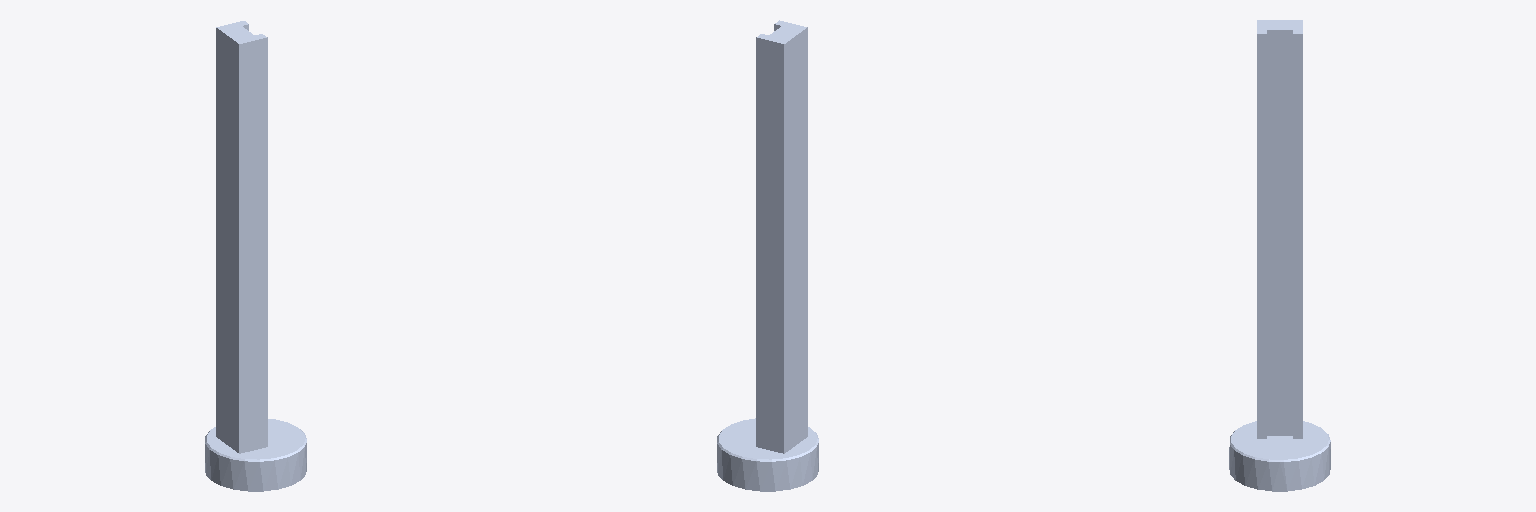
URDF robot description (Arm_link1_simple.SLDPRT):
<robot
  name="Arm_link1_simple.SLDPRT">
  <link
    name="Arm_link1_simple.SLDPRT">
    <inertial>
      <origin
        xyz="-0.035299 -0.51908 3.0901583307106E-17"
        rpy="0 0 0" />
      <mass
        value="56.212" />
      <inertia
        ixx="11.663244910873"
        ixy="2.13002493035383E-17"
        ixz="-0.463117260190688"
        iyy="7.31243655226427E-16"
        iyz="-0.325943705018541"
        izz="2.5425568059213E-18" />
    </inertial>
    <visual>
      <origin
        xyz="1.5707963267949 0 0"
        rpy="0 0 0" />
      <geometry>
        <mesh
          filename="package://Arm_link1_simple.SLDPRT/meshes/Arm_link1_simple.SLDPRT.STL" />
      </geometry>
      <material
        name="">
        <color
          rgba="0.86667 0.9098 1 1" />
      </material>
    </visual>
    <collision>
      <origin
        xyz="0 0 0"
        rpy="1.5707963267949 0 0" />
      <geometry>
        <mesh
          filename="package://Arm_link1_simple.SLDPRT/meshes/Arm_link1_simple.SLDPRT.STL" />
      </geometry>
    </collision>
  </link>
</robot>

--- What the picture shows (computed from the rendered views, not written in the file) ---
The picture shows the robot from 3 angles, left to right: view 1: azimuth 30°, elevation 25°; view 2: azimuth 150°, elevation 25°; view 3: azimuth 270°, elevation 25°; orthographic projection.
Model Arm_link1_simple.SLDPRT with 1 links and 0 joints (none), rooted at Arm_link1_simple.SLDPRT, posed all joints at 0.
Visible links, largest first — view 1: Arm_link1_simple.SLDPRT; view 2: Arm_link1_simple.SLDPRT; view 3: Arm_link1_simple.SLDPRT.
Boxes of the visible links, x1,y1,x2,y2 form: Arm_link1_simple.SLDPRT: (205, 21, 306, 491); Arm_link1_simple.SLDPRT: (717, 20, 818, 491); Arm_link1_simple.SLDPRT: (1229, 20, 1330, 491).
Size in the robot's own frame: 0.297 by 0.2966 by 1.41 metres.
1 mesh visuals loaded from 1 distinct referenced files (1 binary STL).